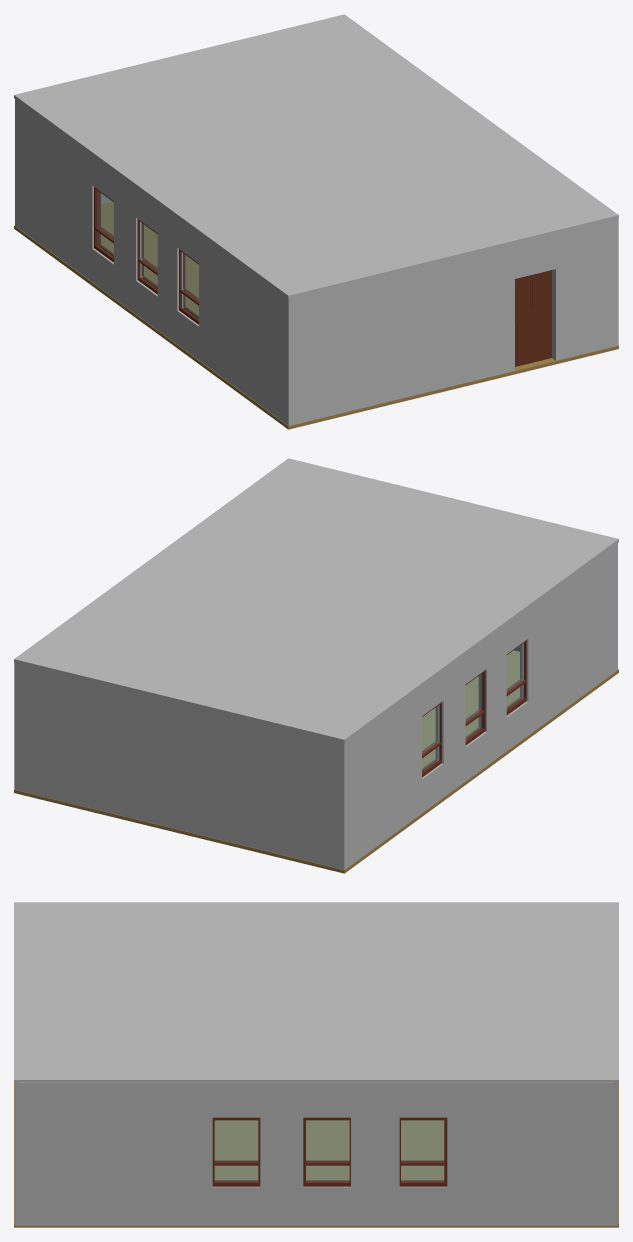
File: room.glb
3 renders of one model, top to bottom at view 1: azimuth 30°, elevation 25°; view 2: azimuth 150°, elevation 25°; view 3: azimuth 270°, elevation 25°, orthographic. The views are drawn at different scales.
Visible parts, largest first — view 1: room; view 2: room; view 3: room.
Part boxes in pixels (left/top/right/bottom): room: left=14, top=14, right=618, bottom=429; room: left=14, top=458, right=618, bottom=873; room: left=14, top=902, right=618, bottom=1227.
Size of the model in its own units: 10.79 by 4.17 by 15.49.
